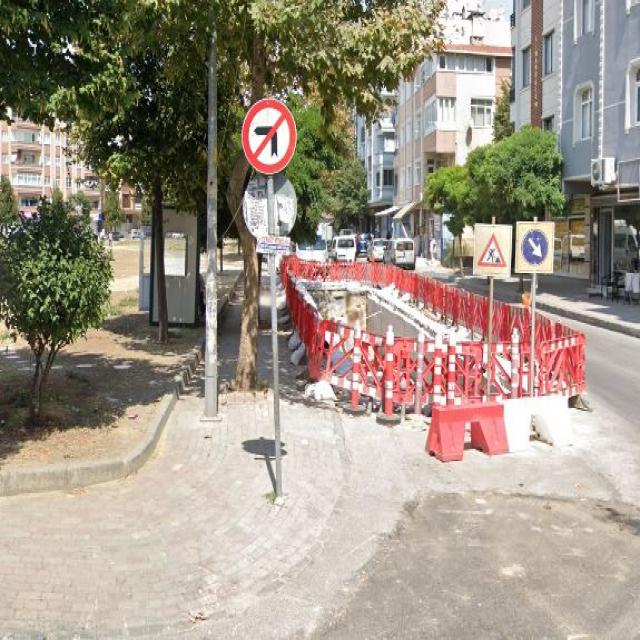soladonulmez: (242, 98, 297, 173)
